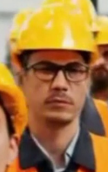Mohamed: (12, 17, 101, 150)
